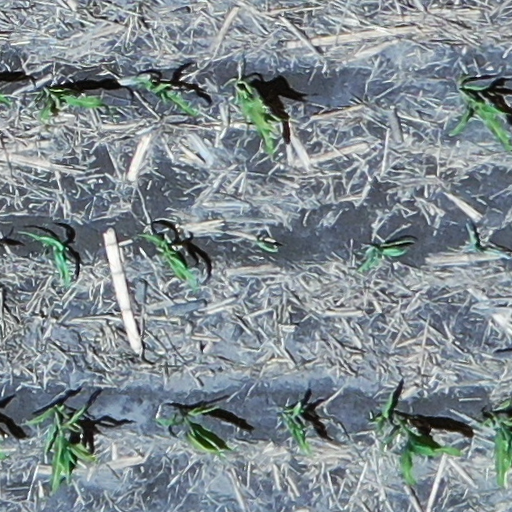planta: (373, 387, 460, 485), (29, 405, 95, 489), (151, 404, 225, 455), (235, 82, 285, 153), (142, 231, 197, 290), (15, 230, 71, 286), (135, 79, 197, 117), (37, 88, 104, 120), (284, 400, 311, 451), (359, 244, 403, 270)
